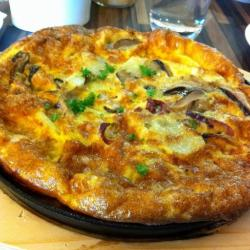omelette: (5, 31, 241, 222)
